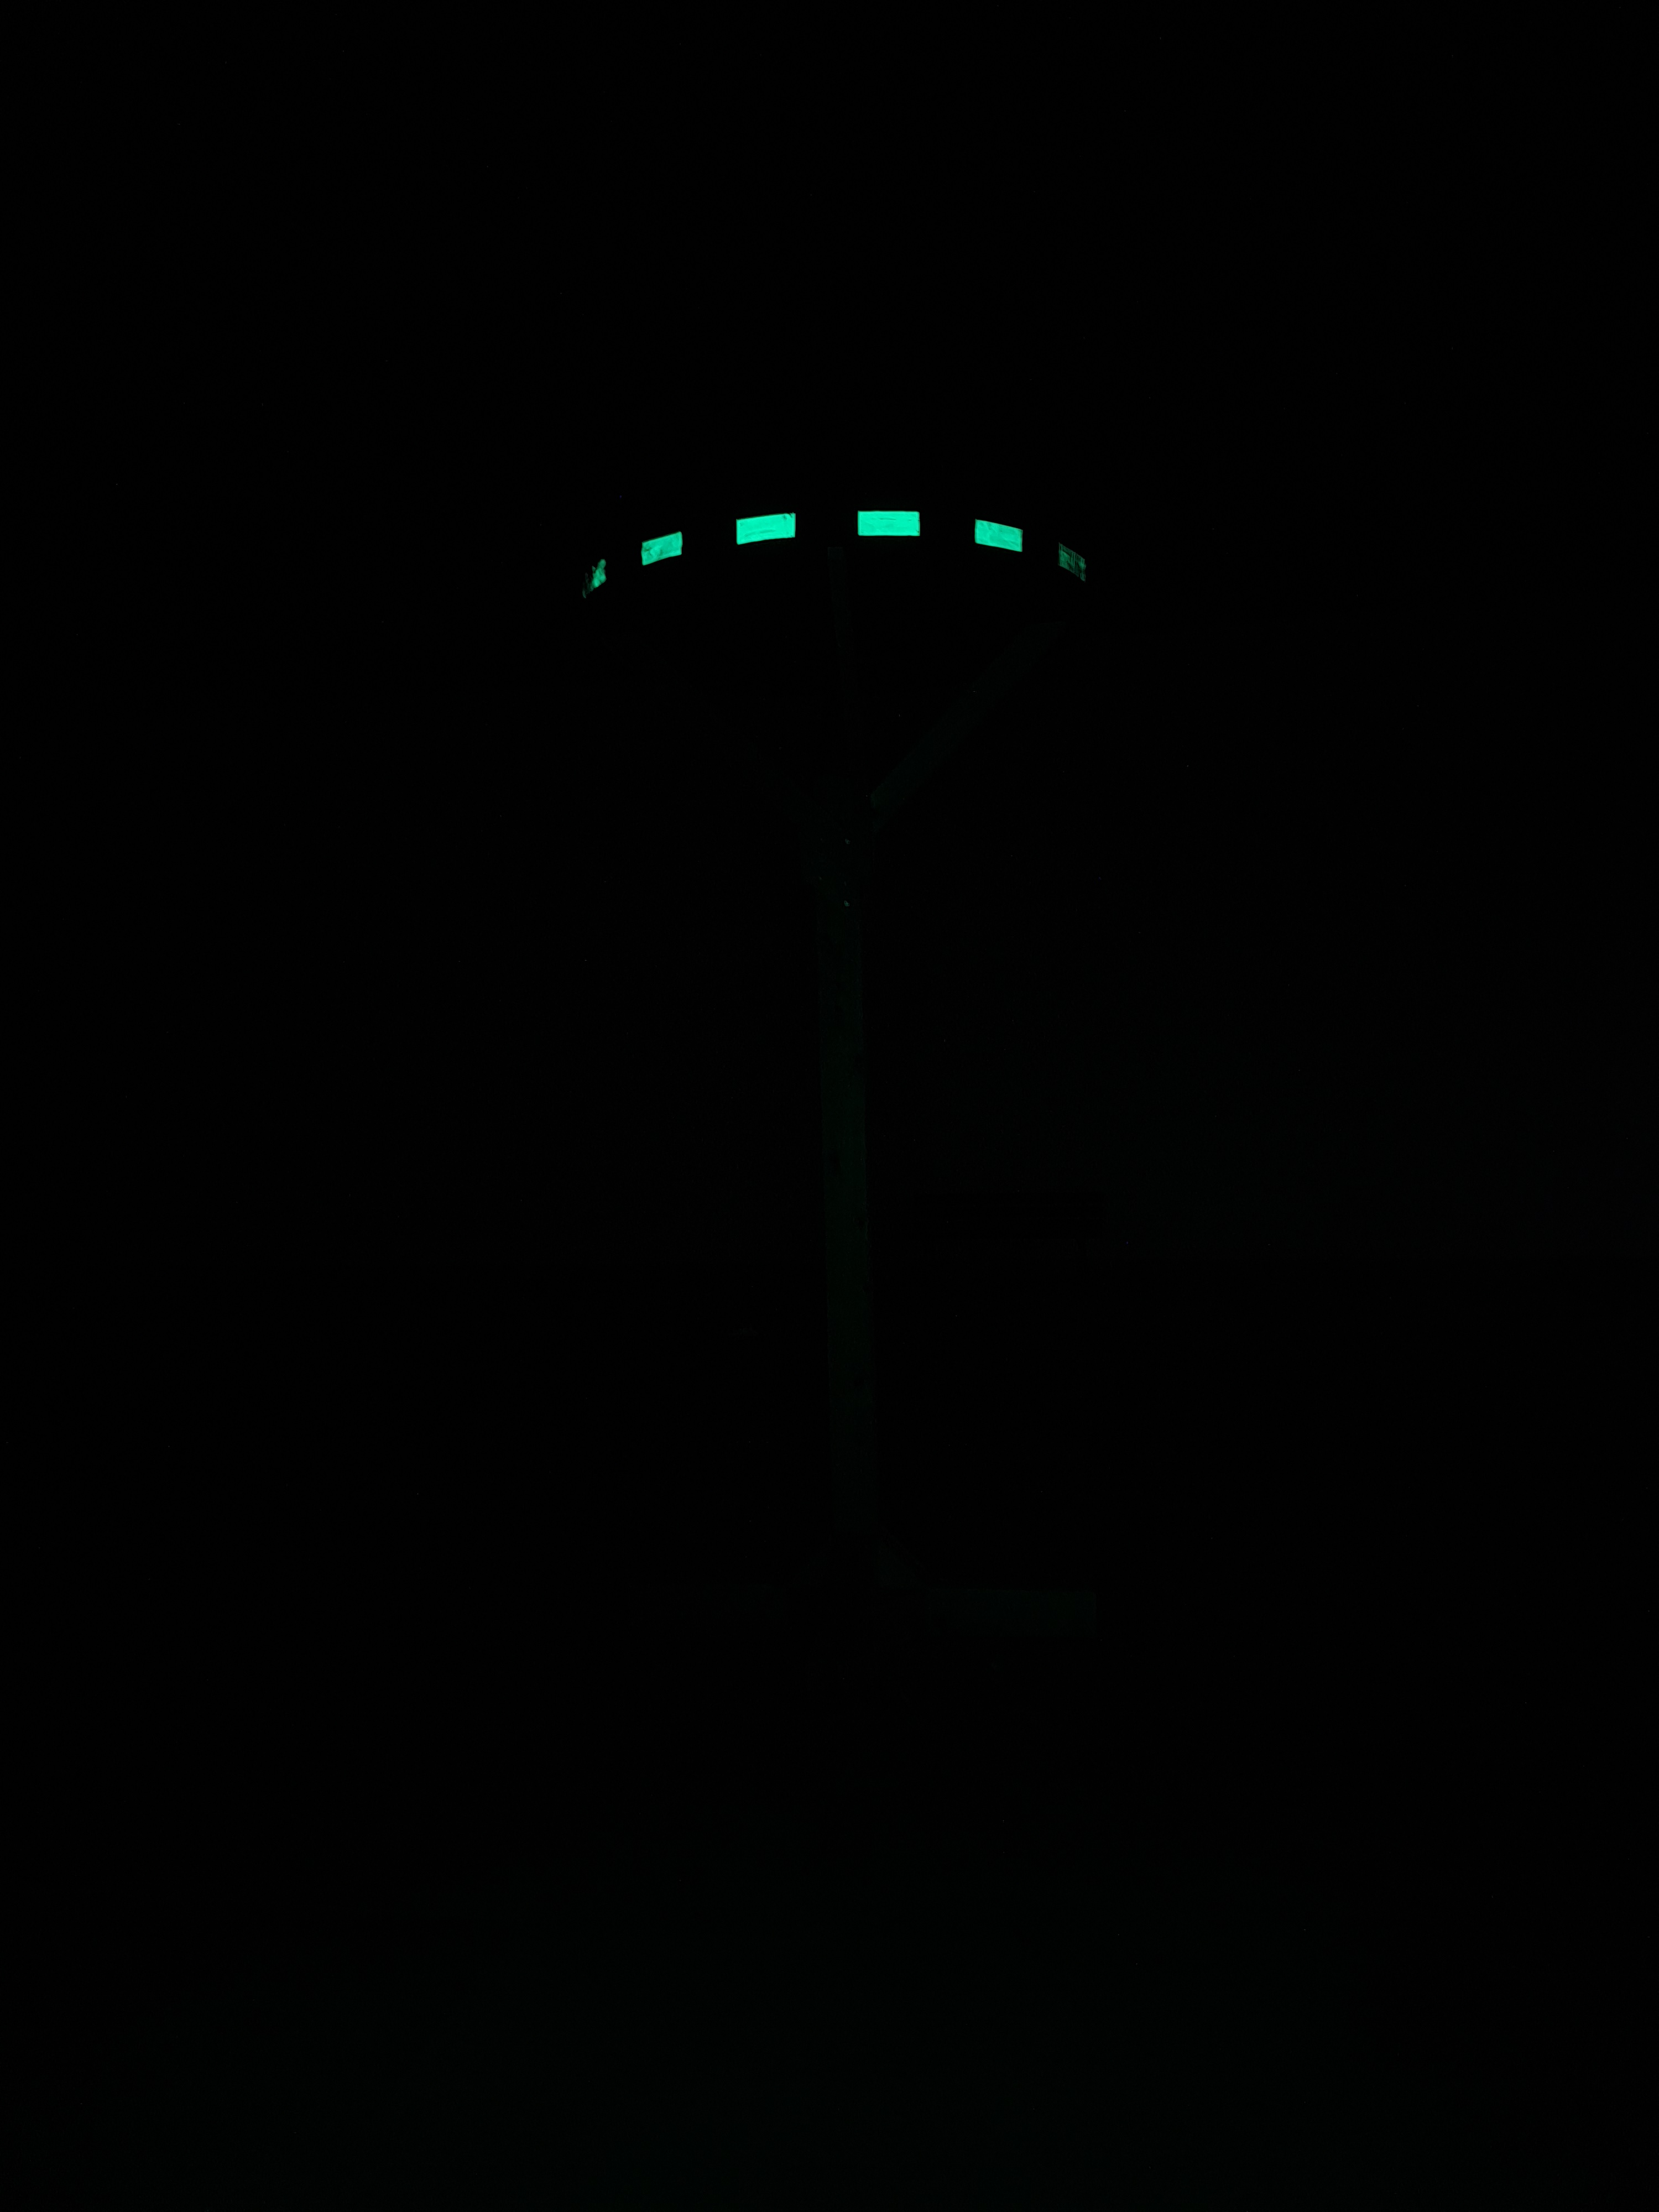hoop: (577, 505, 1096, 606)
